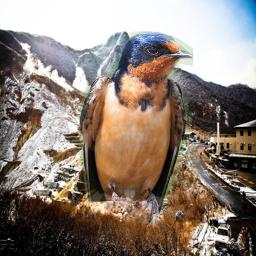Swallow: (79, 31, 193, 227)
